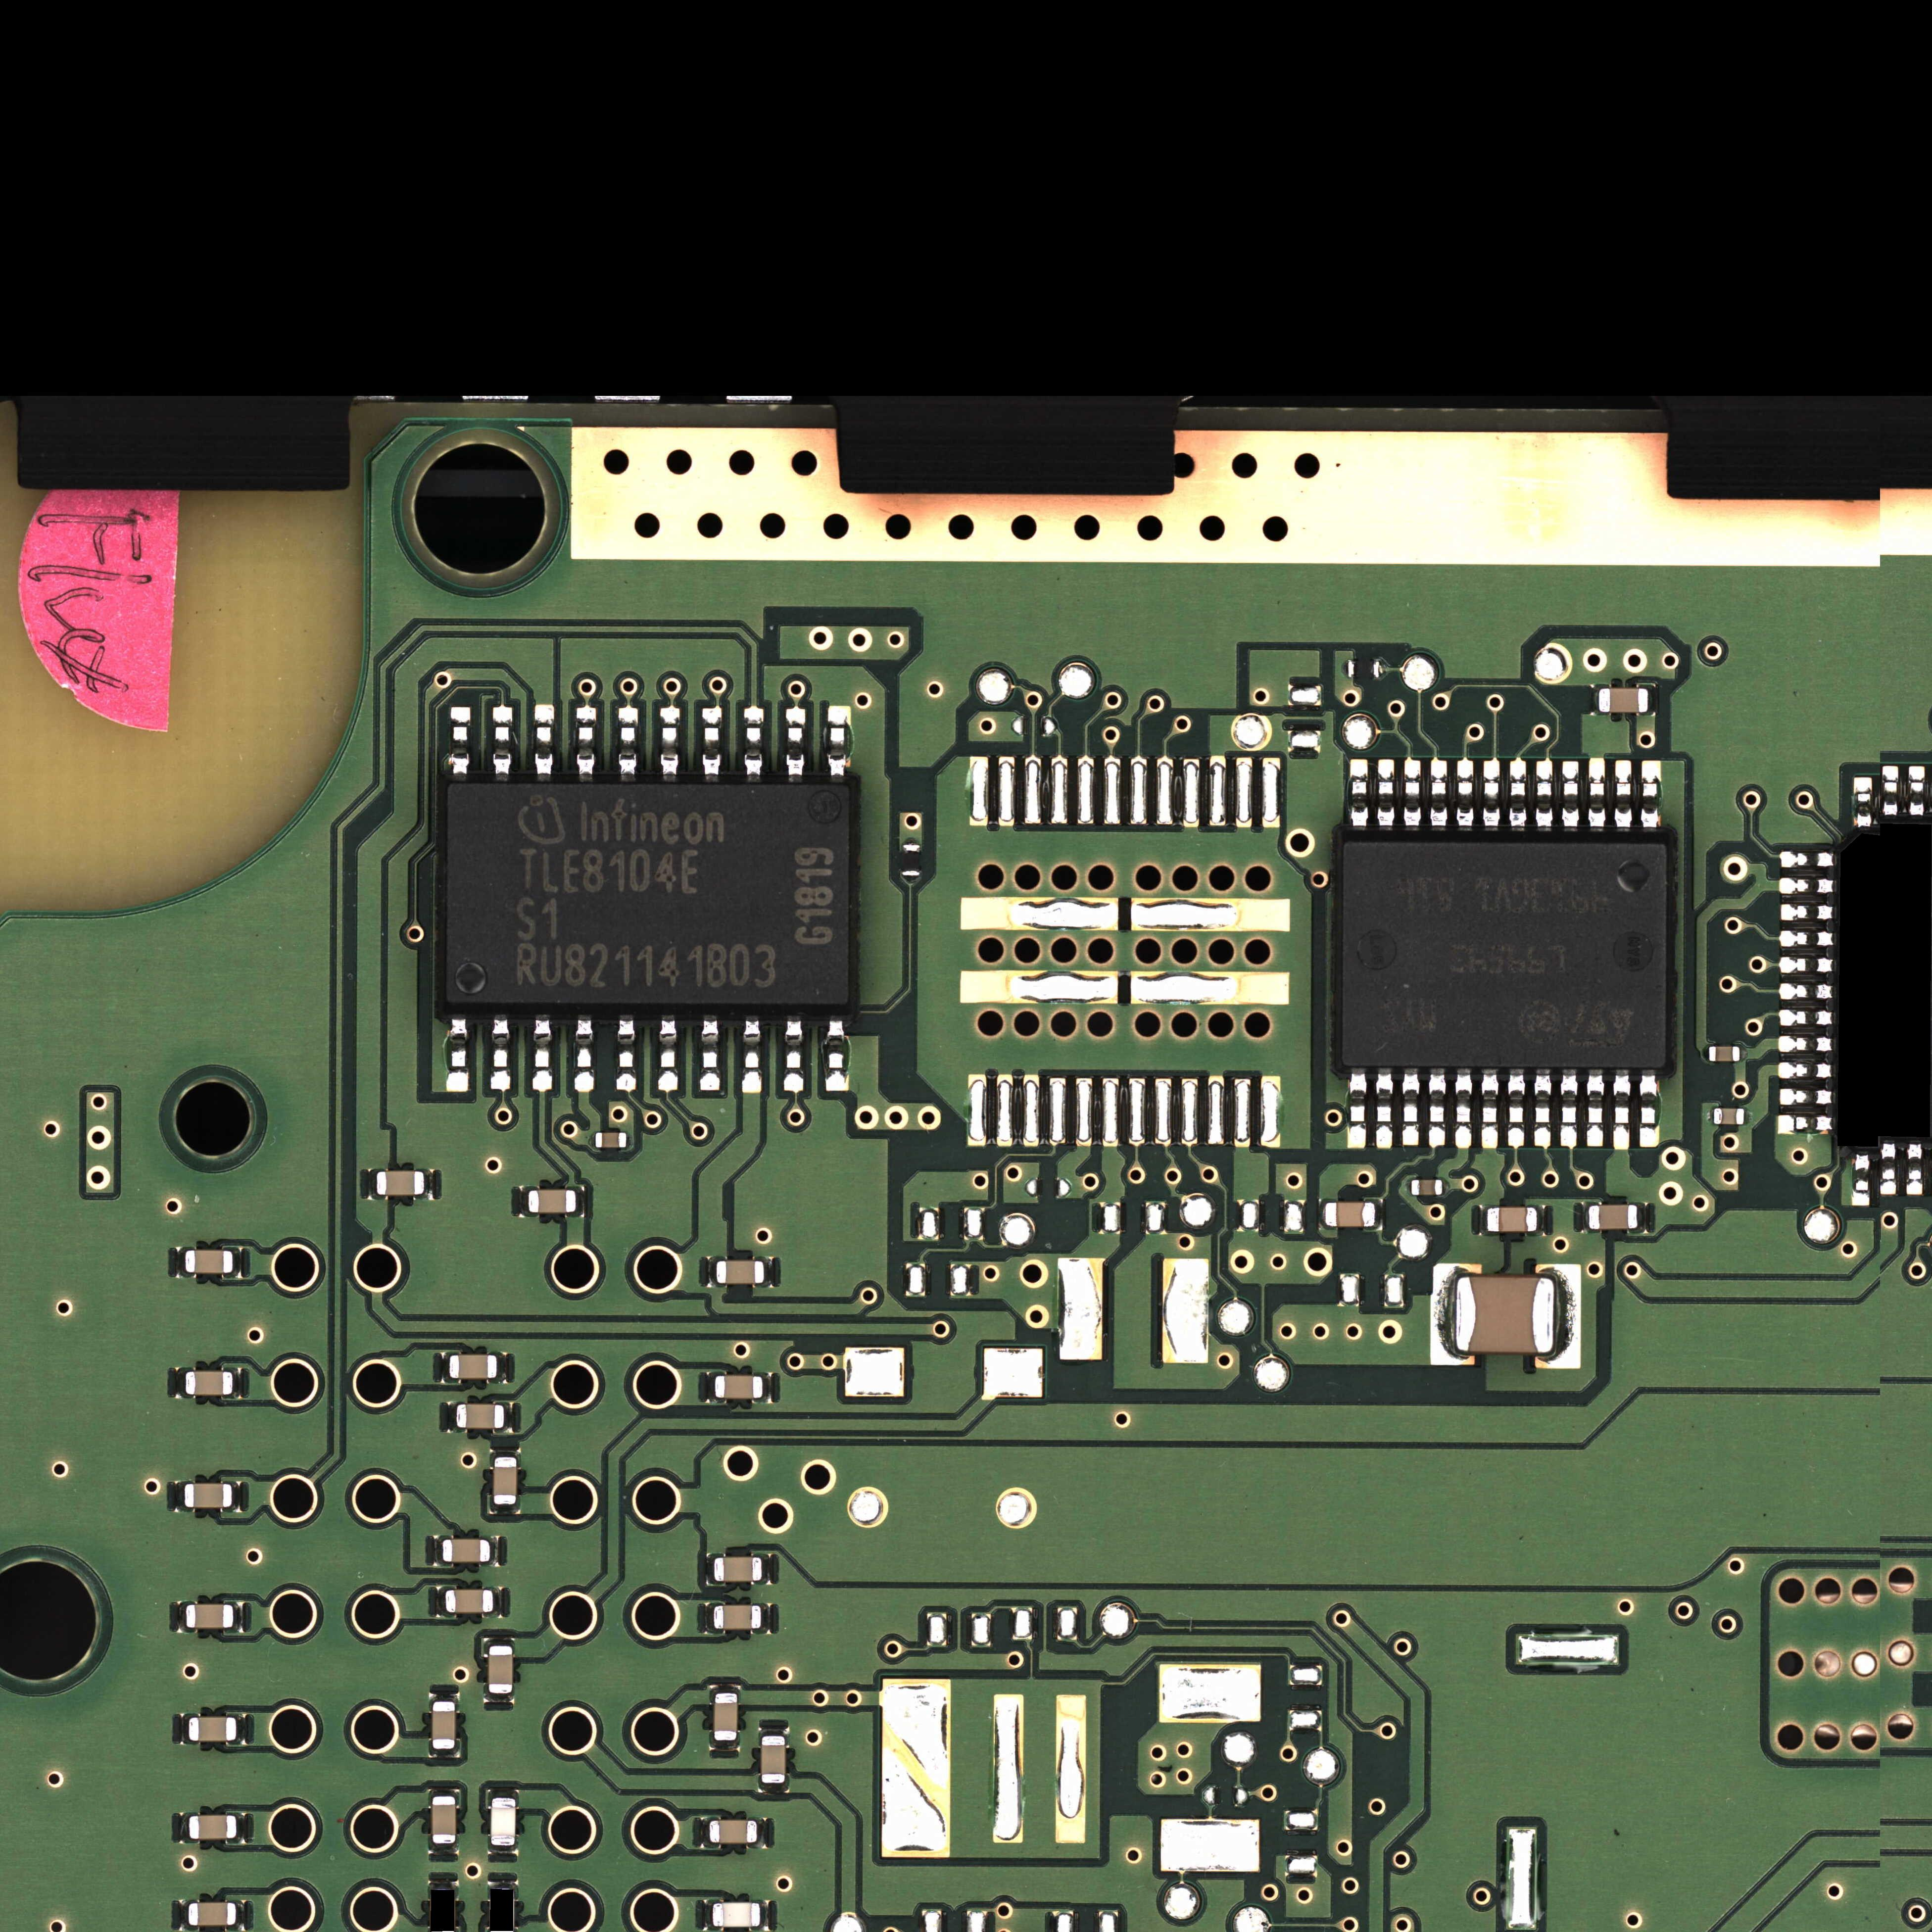Package: (446, 783, 850, 1005), (1342, 842, 1668, 1069), (1455, 1276, 1555, 1352), (1487, 1207, 1537, 1232), (1326, 1202, 1375, 1227), (1589, 1205, 1638, 1229), (714, 1557, 762, 1582), (1599, 688, 1648, 713), (456, 1404, 504, 1429), (377, 1171, 424, 1196), (491, 1798, 516, 1845), (184, 1484, 232, 1508), (189, 1717, 237, 1741), (186, 1371, 233, 1396), (713, 1903, 760, 1927), (189, 1815, 237, 1839), (186, 1604, 234, 1629), (762, 1735, 785, 1784), (716, 1260, 765, 1284), (714, 1605, 761, 1630), (488, 1646, 513, 1693), (188, 1902, 237, 1926), (528, 1190, 576, 1213), (449, 1355, 497, 1379), (715, 1375, 763, 1399), (432, 1796, 456, 1843), (709, 1820, 757, 1843), (445, 1590, 493, 1613), (493, 1457, 517, 1504), (185, 1250, 233, 1273), (442, 1539, 490, 1562), (714, 1693, 737, 1740), (433, 1701, 455, 1749), (902, 845, 920, 875), (1348, 661, 1379, 678), (1709, 1046, 1740, 1062), (1714, 1108, 1744, 1124), (595, 1132, 627, 1148), (1412, 1179, 1442, 1195)
Solder: (1555, 1265, 1581, 1367), (1431, 1263, 1455, 1366), (824, 1015, 849, 1092), (827, 706, 851, 782), (447, 1014, 469, 1094), (1639, 1070, 1660, 1150), (574, 1014, 594, 1093), (657, 1015, 678, 1093), (741, 1015, 762, 1093), (616, 1015, 636, 1092), (490, 1014, 511, 1091), (534, 704, 554, 782), (618, 707, 638, 782), (784, 1016, 804, 1093), (700, 1015, 720, 1092), (576, 706, 596, 782), (1348, 1069, 1367, 1150), (533, 1014, 552, 1092), (450, 707, 470, 782), (744, 707, 764, 782), (785, 707, 805, 782), (1480, 1069, 1498, 1150), (492, 706, 512, 782), (702, 707, 721, 783), (660, 707, 679, 782), (1454, 1069, 1472, 1150), (1560, 1069, 1578, 1150), (1613, 1069, 1631, 1152), (1507, 1069, 1525, 1149), (1642, 760, 1661, 831), (1586, 1070, 1604, 1148), (1376, 1070, 1393, 1151), (1534, 1069, 1551, 1149), (1428, 1070, 1446, 1149), (1350, 759, 1368, 830), (1483, 759, 1501, 831), (1402, 1070, 1419, 1147), (1430, 758, 1448, 831), (1536, 759, 1553, 831), (1589, 758, 1606, 831), (1377, 759, 1395, 830), (1404, 758, 1421, 831), (1615, 760, 1632, 832), (1456, 759, 1474, 831), (1562, 761, 1579, 831), (1509, 758, 1526, 831), (1780, 930, 1835, 948), (1779, 1114, 1833, 1131), (1779, 1088, 1834, 1105), (1779, 1037, 1834, 1054), (1779, 1063, 1834, 1080), (1780, 958, 1834, 975), (1780, 983, 1834, 1000), (1780, 1009, 1834, 1026), (1780, 852, 1835, 869), (1780, 878, 1835, 896), (1780, 904, 1835, 921), (1854, 776, 1873, 826), (1854, 1152, 1870, 1207), (1881, 1142, 1897, 1196), (1908, 1144, 1924, 1195), (1883, 766, 1899, 814), (1909, 766, 1925, 815), (429, 1844, 459, 1854), (489, 1505, 520, 1514), (710, 1684, 740, 1693), (436, 1587, 445, 1616), (758, 1784, 789, 1793), (447, 1402, 456, 1432), (504, 1402, 513, 1433), (234, 1602, 243, 1632), (704, 1603, 713, 1633), (429, 1692, 459, 1701), (484, 1694, 514, 1703), (493, 1587, 502, 1617), (1478, 1205, 1487, 1235), (488, 1789, 519, 1798), (1375, 1199, 1383, 1230), (487, 1846, 518, 1854), (483, 1638, 514, 1646), (430, 1749, 460, 1758), (176, 1481, 184, 1512), (1639, 1203, 1646, 1234), (490, 1449, 520, 1457), (710, 1741, 739, 1750), (177, 1368, 185, 1399), (708, 1256, 716, 1287), (177, 1247, 185, 1278), (1537, 1205, 1545, 1236), (498, 1353, 506, 1383), (763, 1373, 771, 1403), (490, 1536, 498, 1566), (1318, 1199, 1325, 1230), (521, 1186, 528, 1217), (763, 1553, 770, 1585), (706, 1553, 714, 1585), (704, 1900, 712, 1929), (430, 1882, 459, 1889), (429, 1788, 459, 1796), (577, 1186, 584, 1217), (758, 1818, 765, 1848), (181, 1813, 189, 1843), (435, 1536, 442, 1566), (234, 1247, 241, 1277), (762, 1603, 770, 1634), (761, 1900, 768, 1930), (707, 1372, 715, 1402), (369, 1169, 376, 1199), (179, 1601, 186, 1633), (760, 1728, 788, 1735), (701, 1818, 709, 1846), (237, 1900, 244, 1929), (233, 1481, 240, 1512), (425, 1169, 432, 1200), (1592, 684, 1598, 715), (765, 1257, 772, 1287), (442, 1352, 449, 1382), (181, 1900, 188, 1930), (237, 1813, 244, 1842), (237, 1714, 244, 1743), (182, 1714, 188, 1744), (234, 1367, 240, 1398), (1648, 685, 1655, 715), (488, 1882, 518, 1888), (1583, 1203, 1589, 1233), (902, 876, 920, 883), (1744, 1109, 1752, 1125), (1705, 1108, 1713, 1125), (902, 837, 921, 844), (1701, 1044, 1708, 1061), (1342, 660, 1348, 677), (1443, 1179, 1449, 1195), (627, 1132, 632, 1150), (1740, 1046, 1747, 1062), (589, 1132, 595, 1149), (1379, 661, 1385, 677), (1405, 1179, 1411, 1194)
